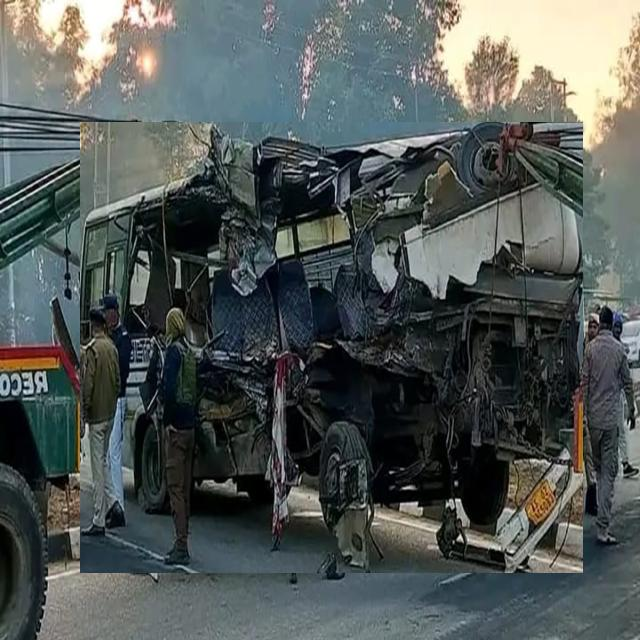accident: (80, 122, 582, 573)
